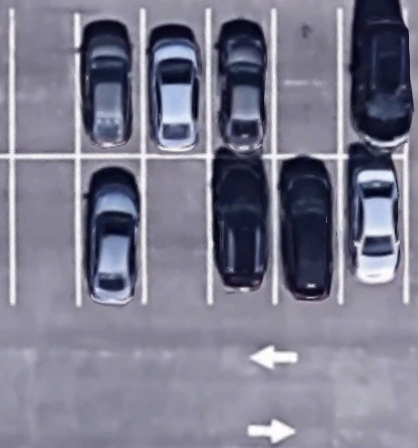Occupied: (207, 9, 275, 156), (208, 156, 275, 304), (274, 156, 341, 304), (340, 156, 407, 303), (78, 155, 144, 303), (77, 9, 143, 156), (143, 9, 209, 156), (340, 10, 406, 156)
Vacant: (12, 155, 79, 306), (273, 10, 340, 158), (144, 156, 210, 304), (12, 9, 78, 155)
